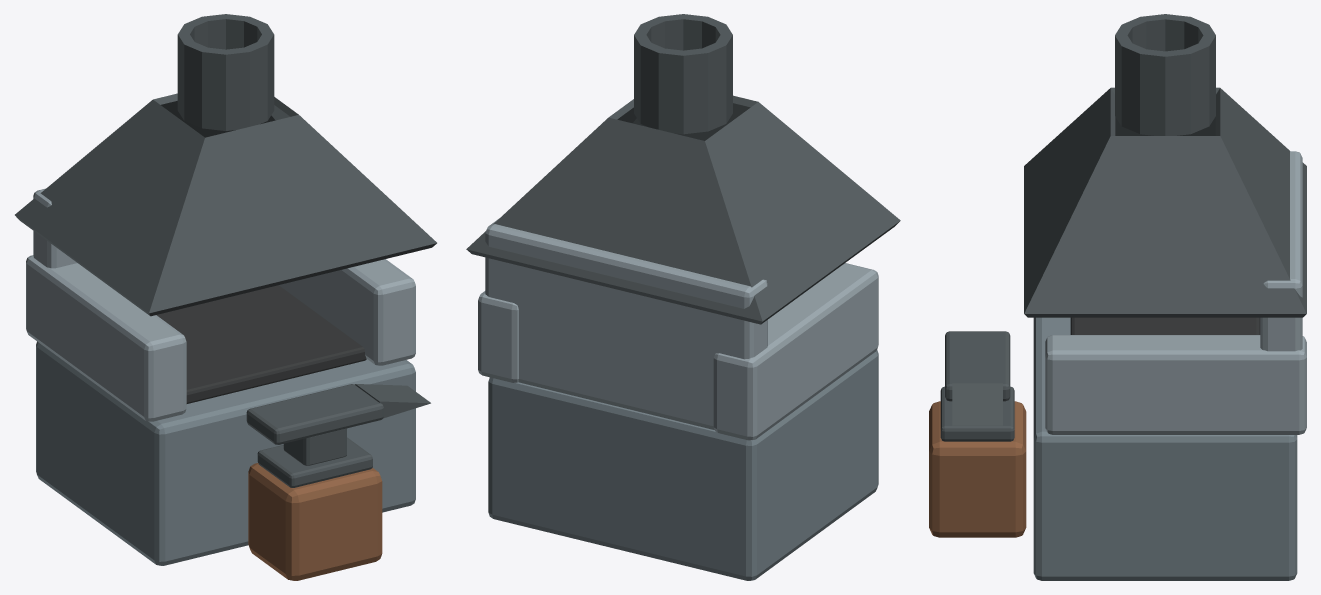
The model's file is workshop_blacksmith_forge.glb.
3 renders of one model, left to right at view 1: azimuth 30°, elevation 25°; view 2: azimuth 150°, elevation 25°; view 3: azimuth 270°, elevation 25°, orthographic. The views are drawn at different scales.
Parts seen in each view (by area): view 1: workshop_blacksmith_forge; view 2: workshop_blacksmith_forge; view 3: workshop_blacksmith_forge.
Boxes of the visible parts, box(x1,y1,x2,y2) form: workshop_blacksmith_forge: box(15, 14, 436, 580); workshop_blacksmith_forge: box(466, 14, 900, 580); workshop_blacksmith_forge: box(929, 14, 1306, 580).
Size of the model in its own units: 1.66 by 2.52 by 1.79.
